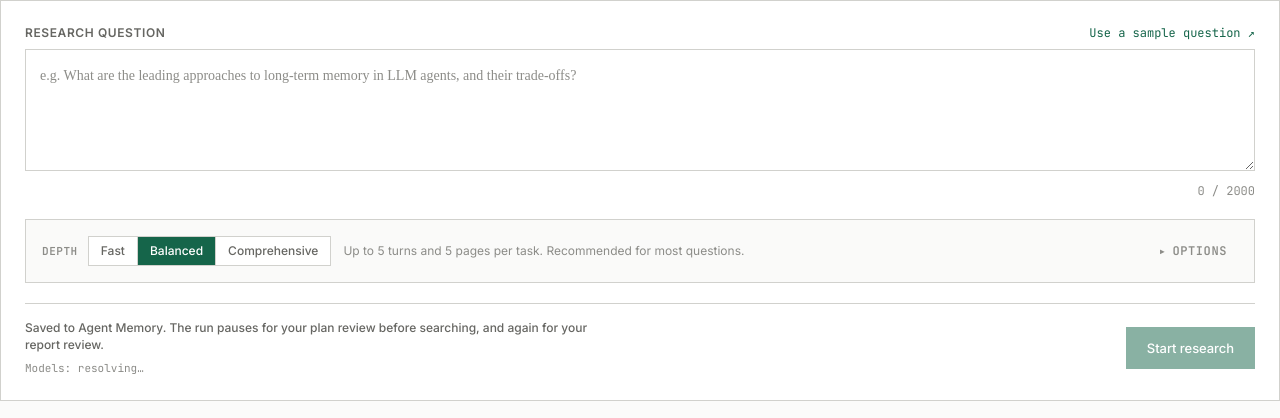
Test case: StartResearchForm › refuses a too-short question and says how short it is
This screenshot has width=1280, height=418.
Replace the text in the text box labelled "Research question" with "why": (640, 110) [25,49,1255,171]
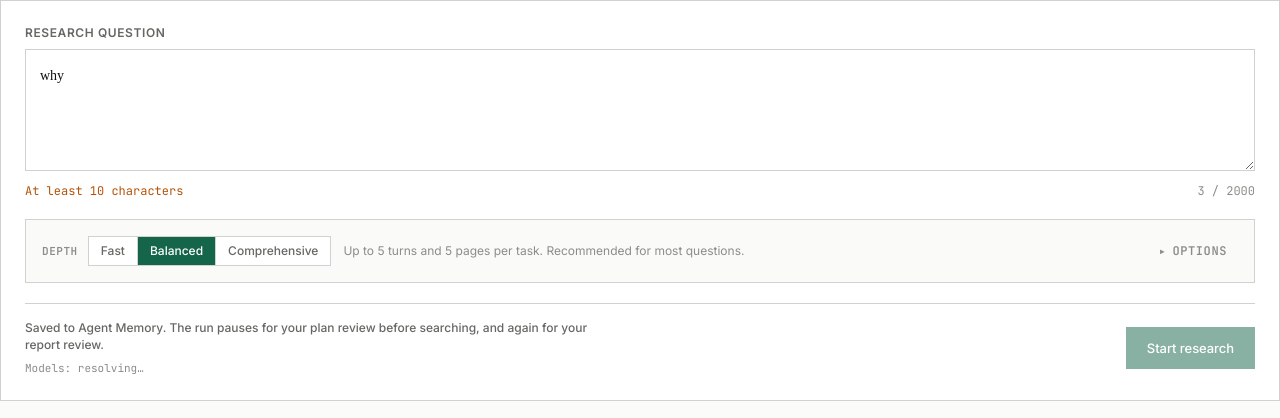
Expected: the button "Start research" is disabled, [1126,327,1255,369]
Result: the text "At least 10 characters" is shown at [25,183,183,199]
